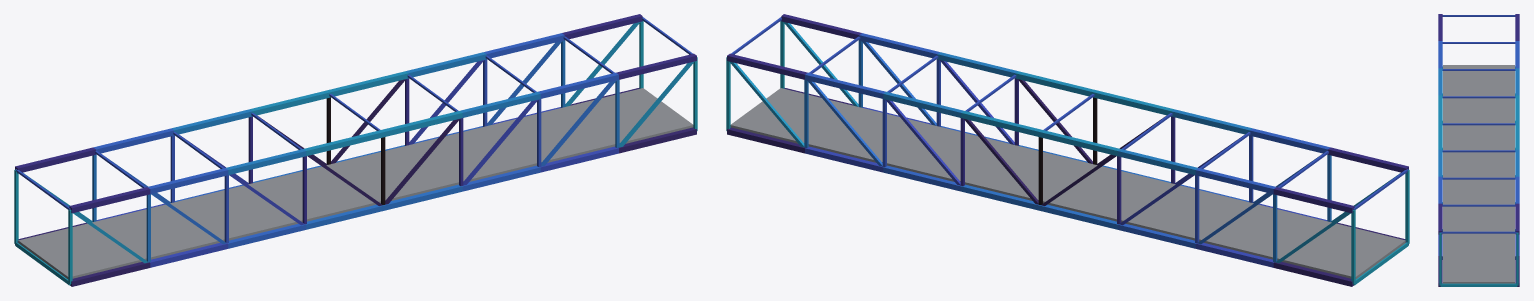
Rendered from 20_2.25_8_HEA200.glb.
The picture shows the model from 3 angles, left to right: view 1: azimuth 30°, elevation 25°; view 2: azimuth 150°, elevation 25°; view 3: azimuth 270°, elevation 25°; orthographic projection. The views are drawn at different scales.
Size of the model in its own units: 20.09 by 2.41 by 3.16.
